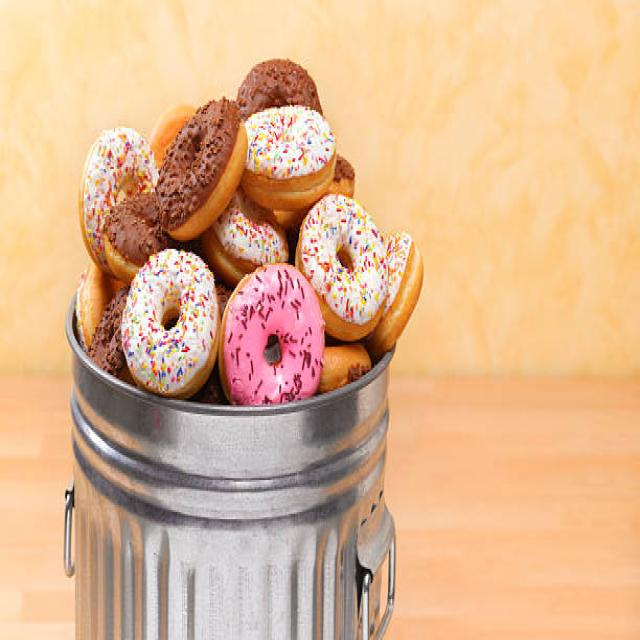trash: (24, 100, 419, 620)
